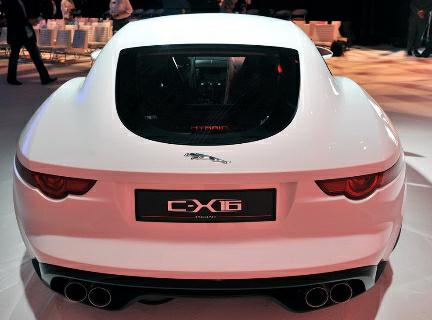捷豹-C-X16: (10, 13, 412, 313)
